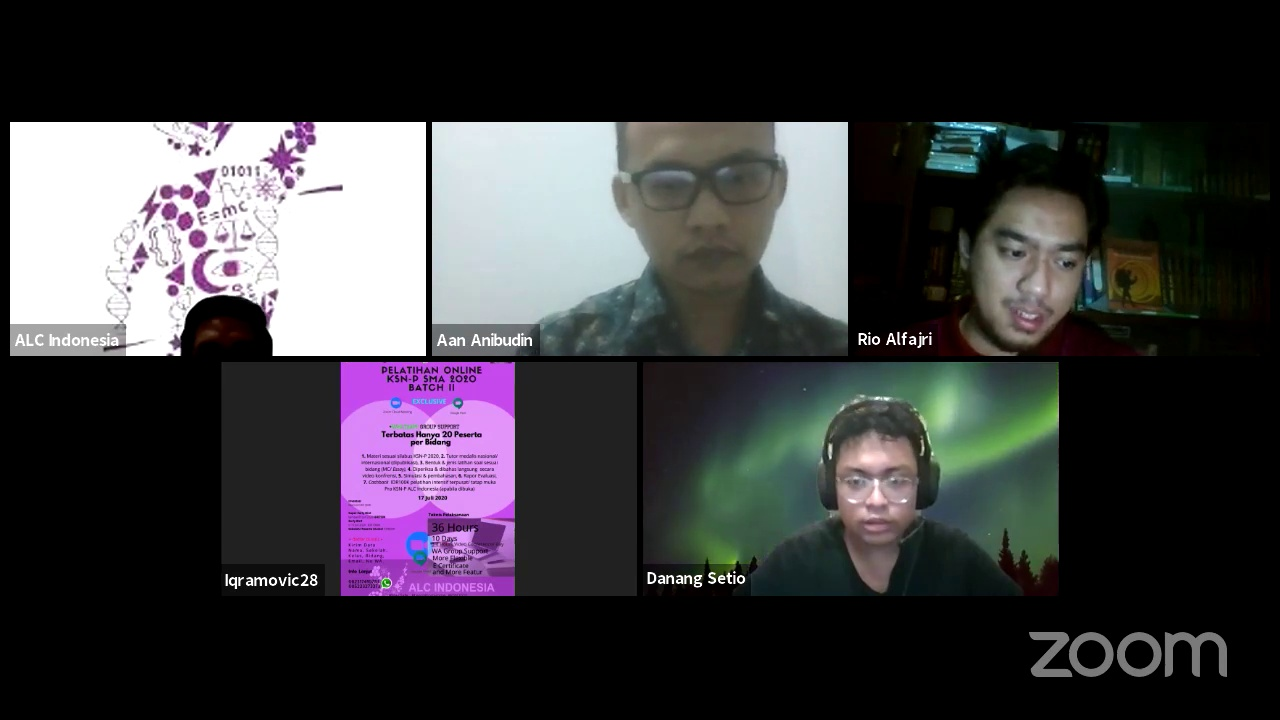Distracted: (951, 180, 1104, 343)
Not Distracted: (610, 133, 788, 300), (799, 408, 948, 552)
